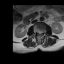CCS_normal: (39, 30, 40, 36)
LFS_stenosis: (42, 30, 43, 34)
LLS_normal: (40, 30, 42, 34)
RFS_normal: (36, 29, 38, 33)
RLS_normal: (38, 30, 39, 34)
